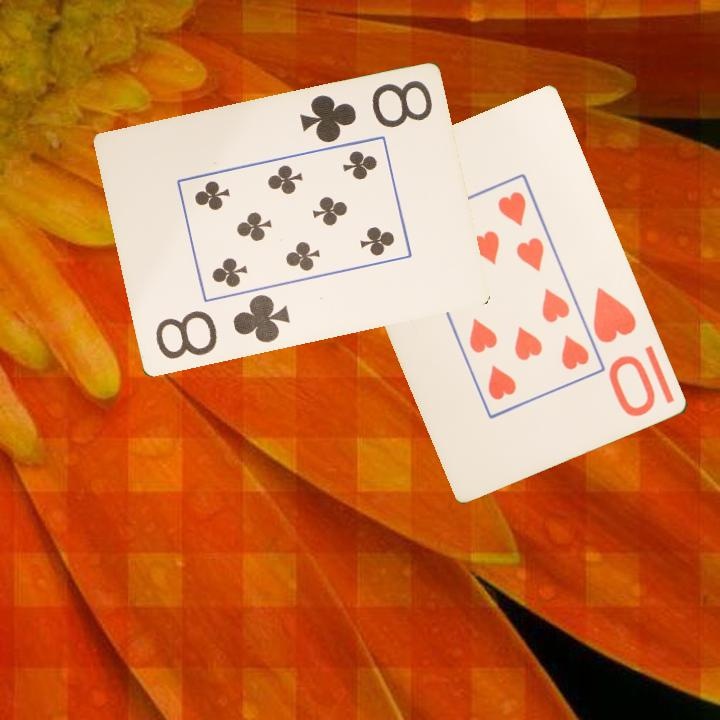10h: (589, 283, 659, 420)
8c: (151, 291, 293, 363), (296, 77, 435, 147)
